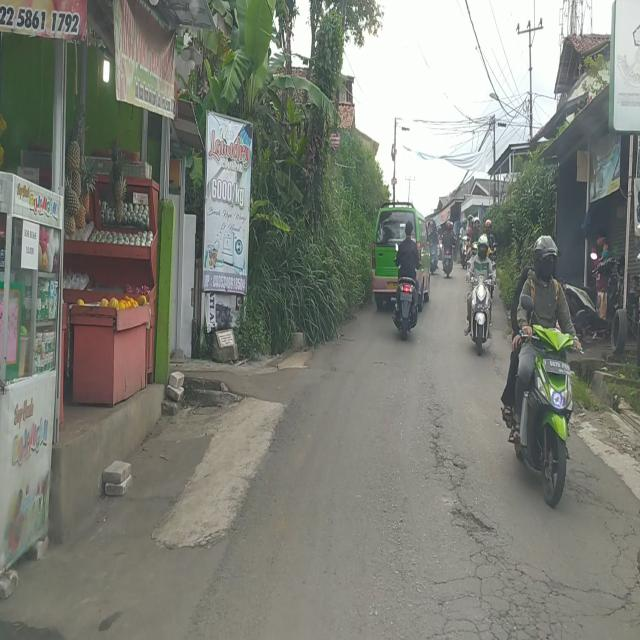Drain Hole: (428, 406, 572, 638), (583, 460, 640, 640)
